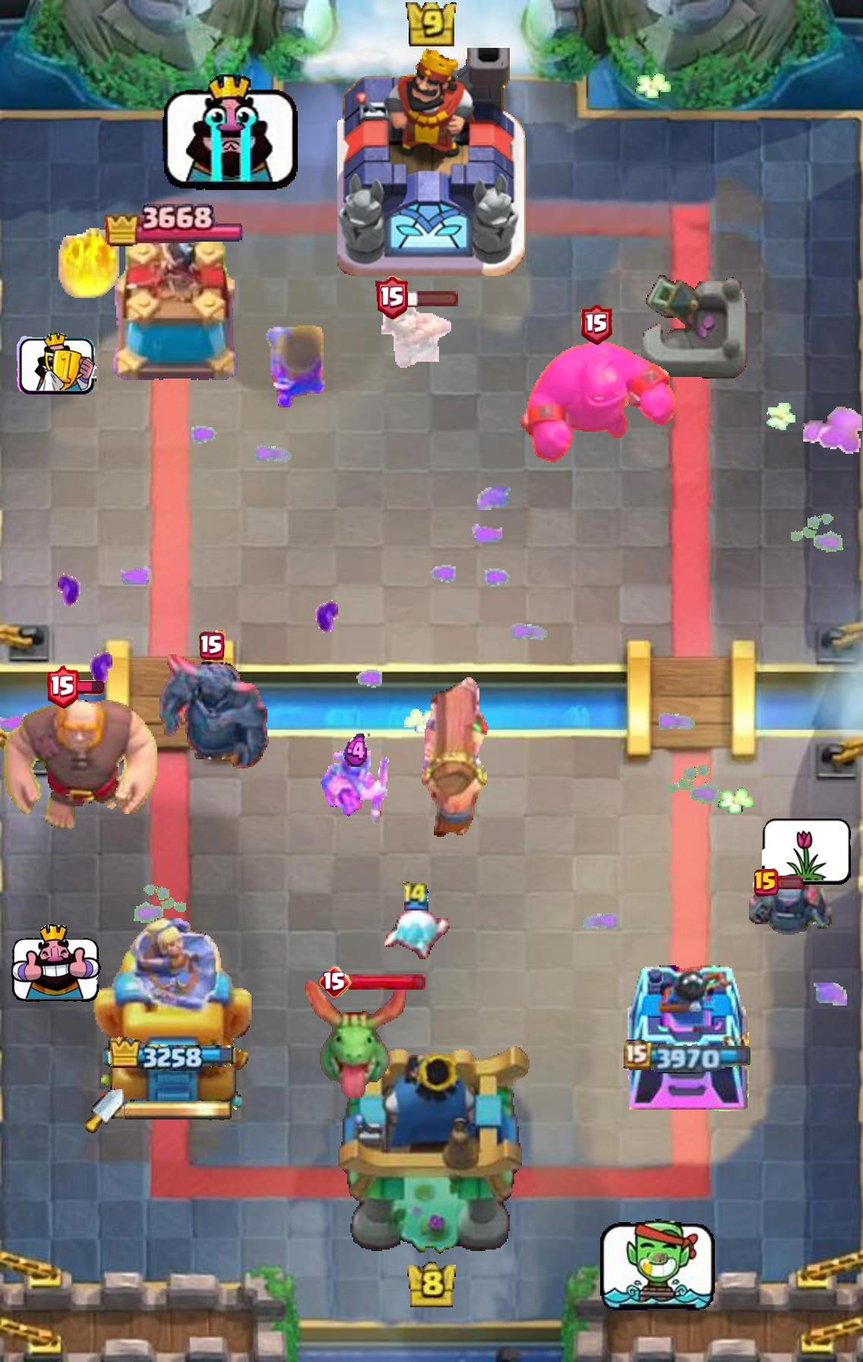elixir: (344, 733, 370, 769)
ice-spirit: (381, 905, 450, 960)
musketeer: (265, 325, 326, 410)
